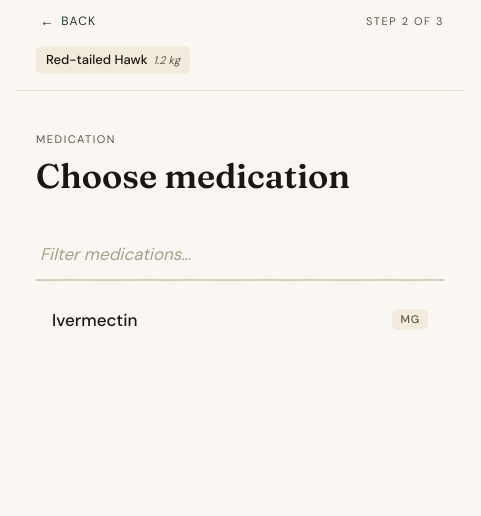
MedList › disables a bottle that none of the routes in effect can use
This screenshot has width=481, height=516.
Step 1. Click the button "Ivermectin mg" → coordinates (95, 320), box [36,293,444,349]
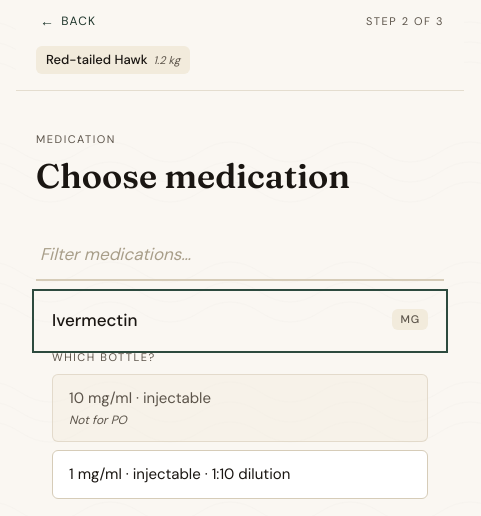
expect the text "10 mg/ml · injectable" is shown: met, box [69,388,211,408]
expect the text "Not for PO" is shown: met, box [69,412,127,428]
expect the button "1 mg/ml · injectable · 1:10 dilution" is shown: met, box [52,450,428,498]
